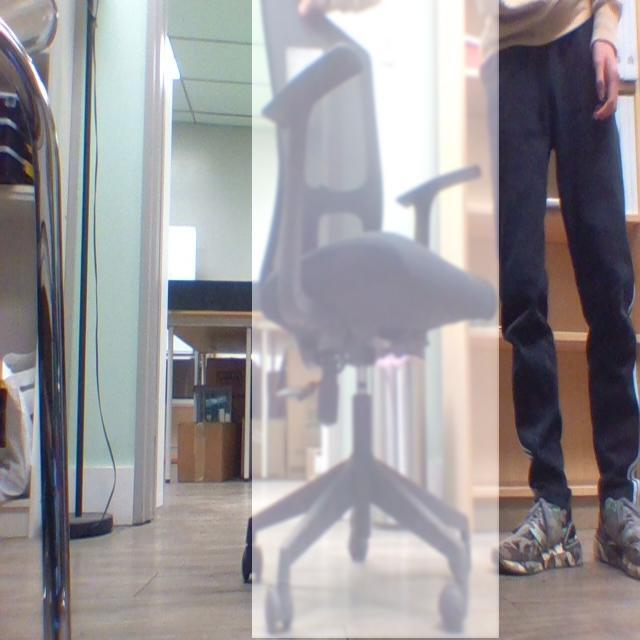chair: (252, 1, 500, 640)
